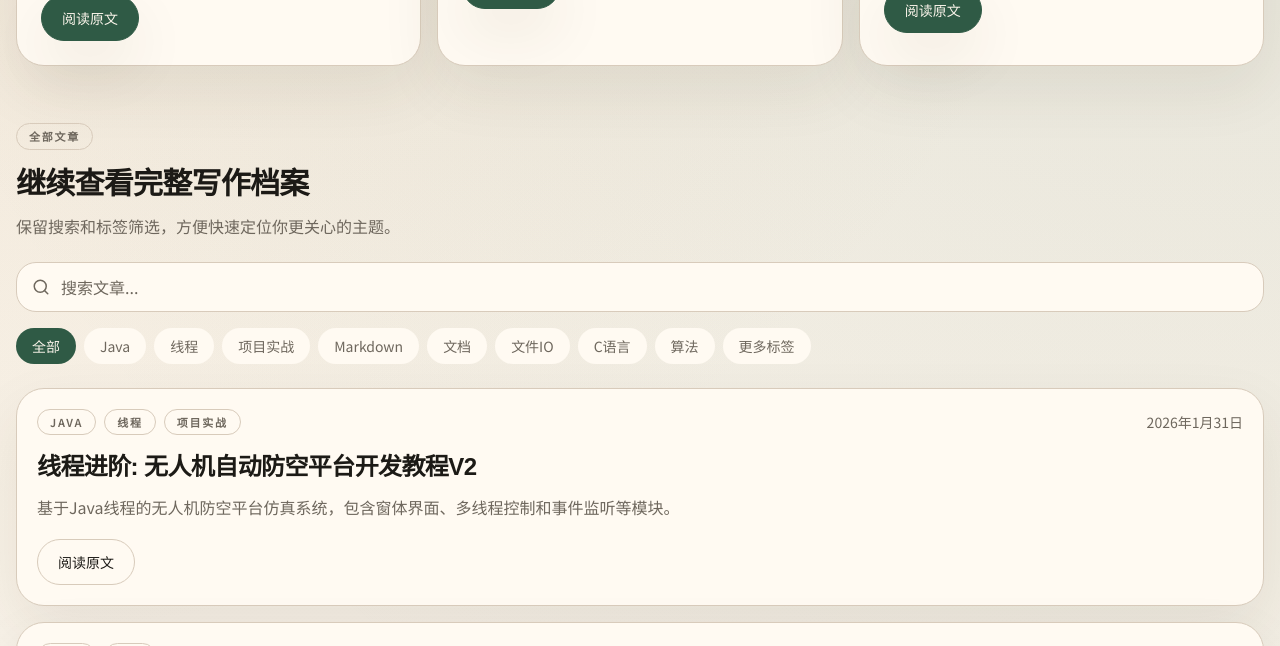
content page redesign plan › blog archive entries keep article links and show an empty state for unmatched search
(page scrolled)
Type "不存在的文章关键词" into the field with placeholder "搜索文章..." at (640, 286), box [16, 262, 1264, 312]
(page scrolled)
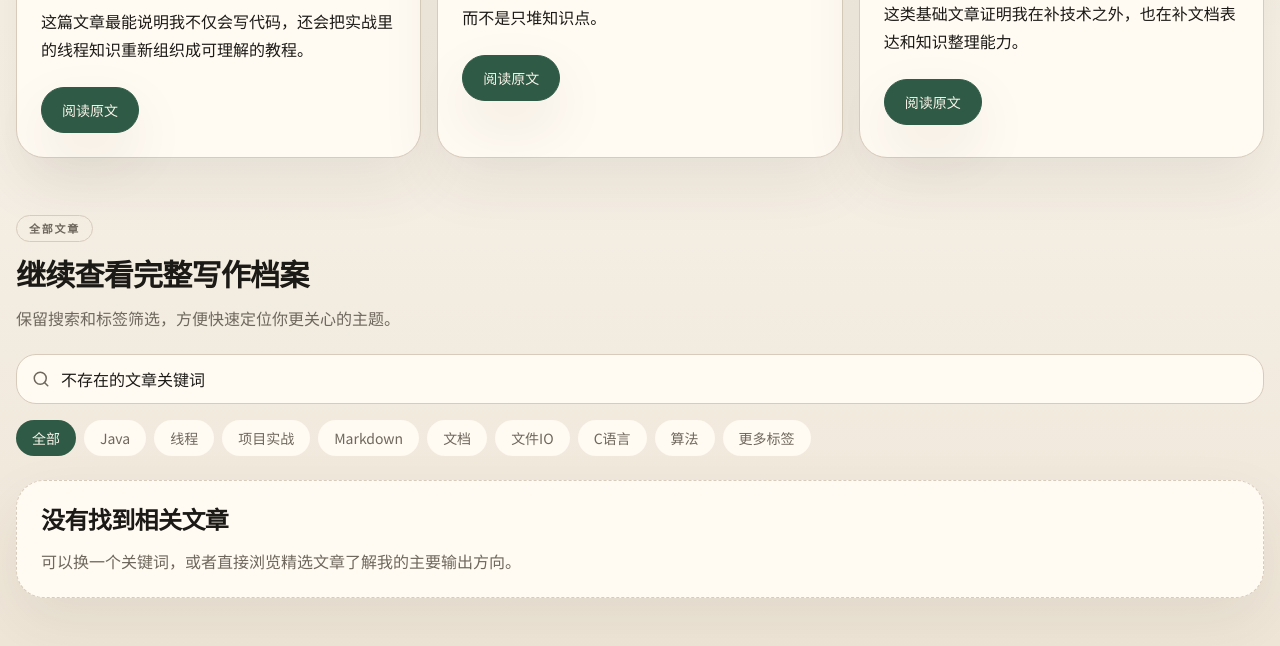
Expected: the heading "没有找到相关文章" is shown, [41, 506, 228, 534]
Expected: the text "可以换一个关键词，或者直接浏览精选文章了解我的主要输出方向。" is shown, [41, 548, 521, 572]
